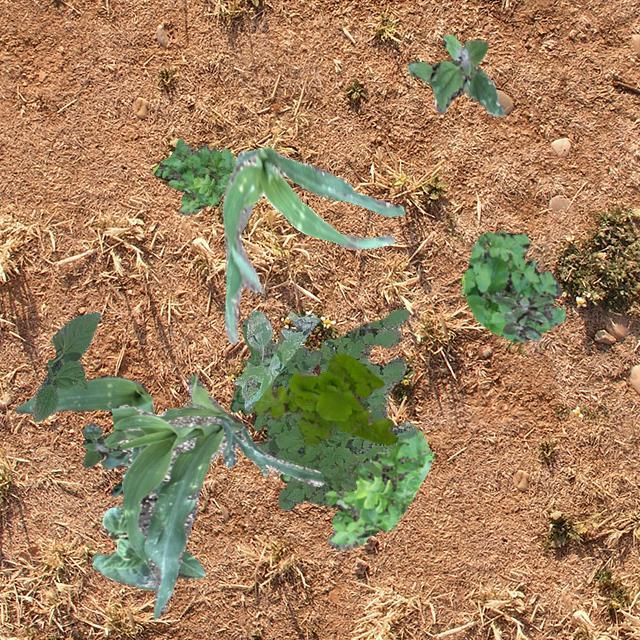crop: (110, 372, 322, 620), (221, 146, 403, 344), (13, 374, 153, 496), (90, 504, 204, 590), (32, 312, 100, 421)
weed: (230, 318, 384, 510), (277, 430, 433, 550), (318, 308, 417, 477), (249, 354, 396, 444), (460, 230, 564, 340), (234, 310, 318, 410), (406, 34, 504, 114), (152, 138, 235, 215), (492, 290, 550, 340), (80, 422, 128, 466)
